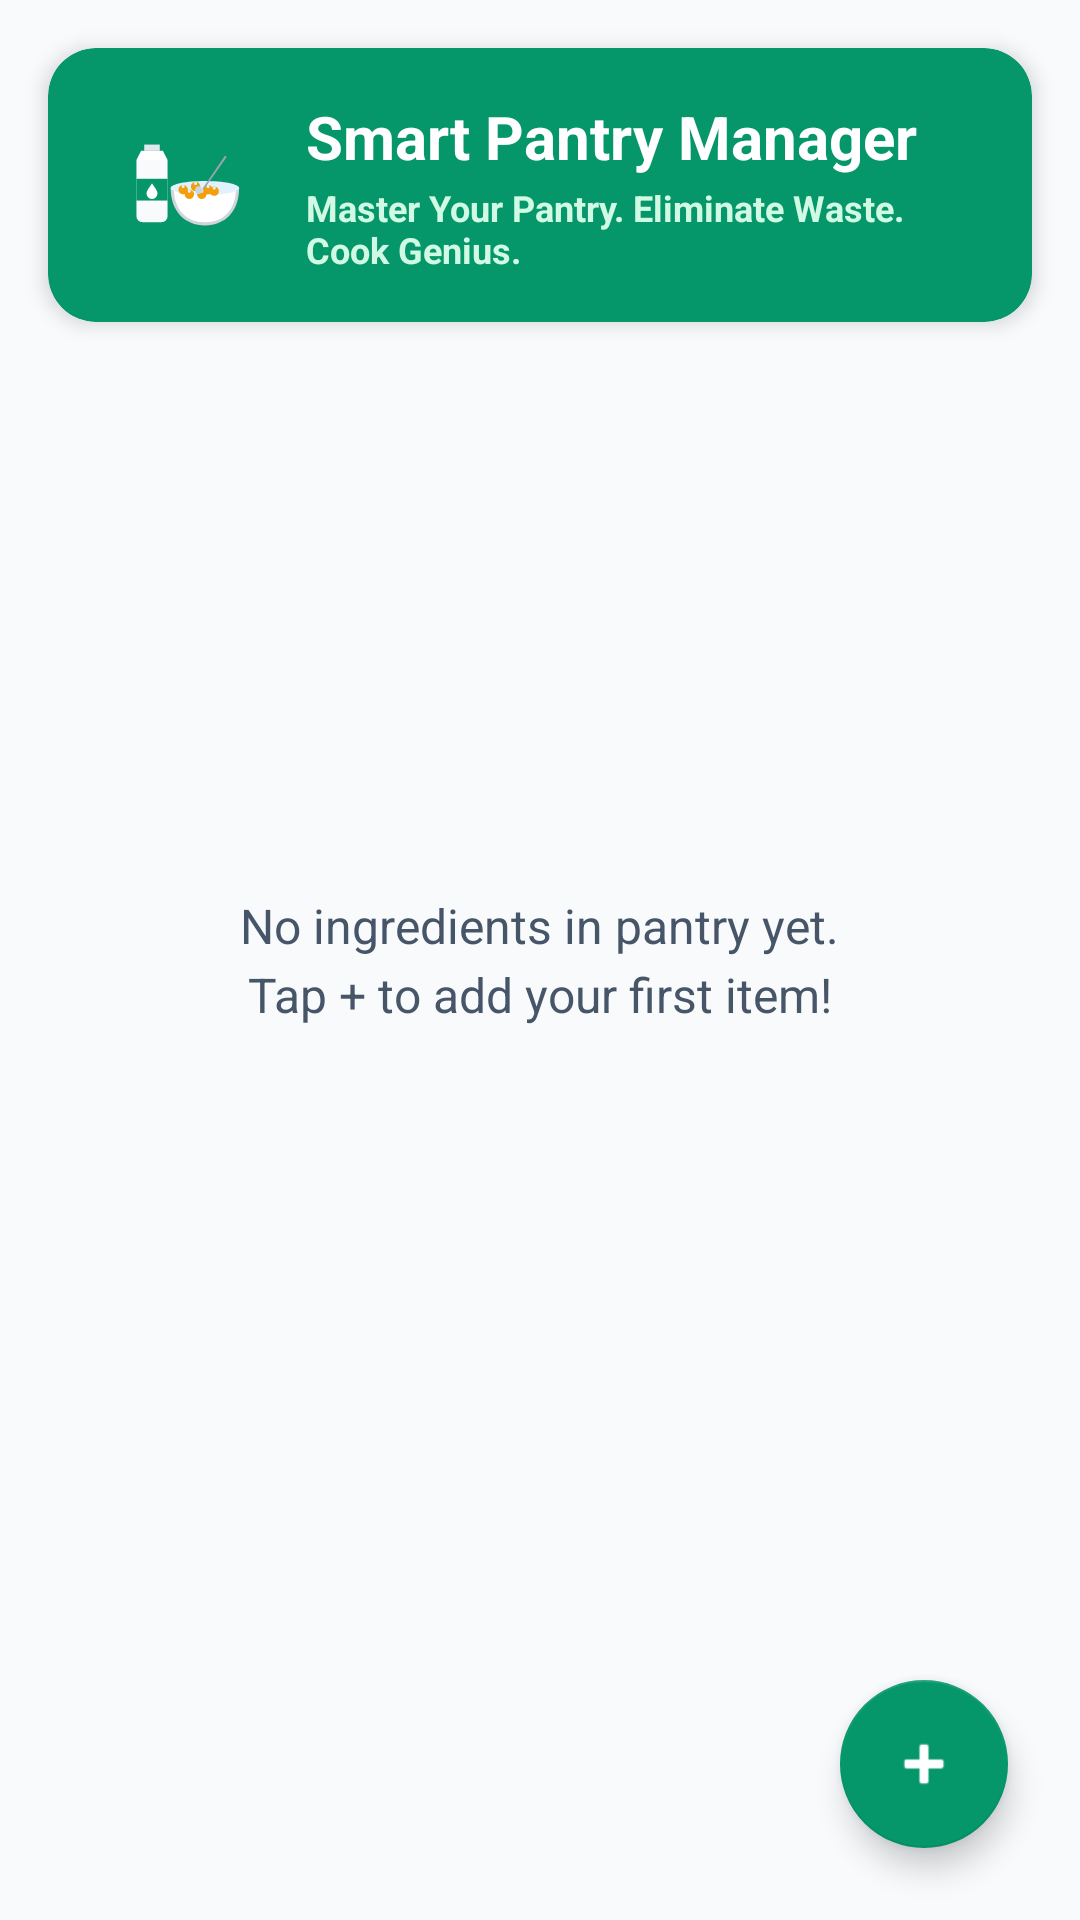

Icon click points for this 1080px x 1920px phone screenshot, format point (x, y):
Add Ingredient: point (924, 1764)
